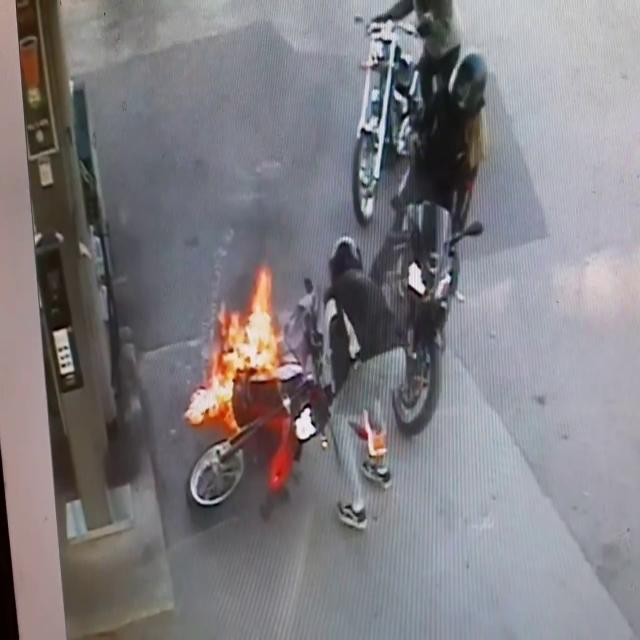Fire: (184, 256, 290, 428)
